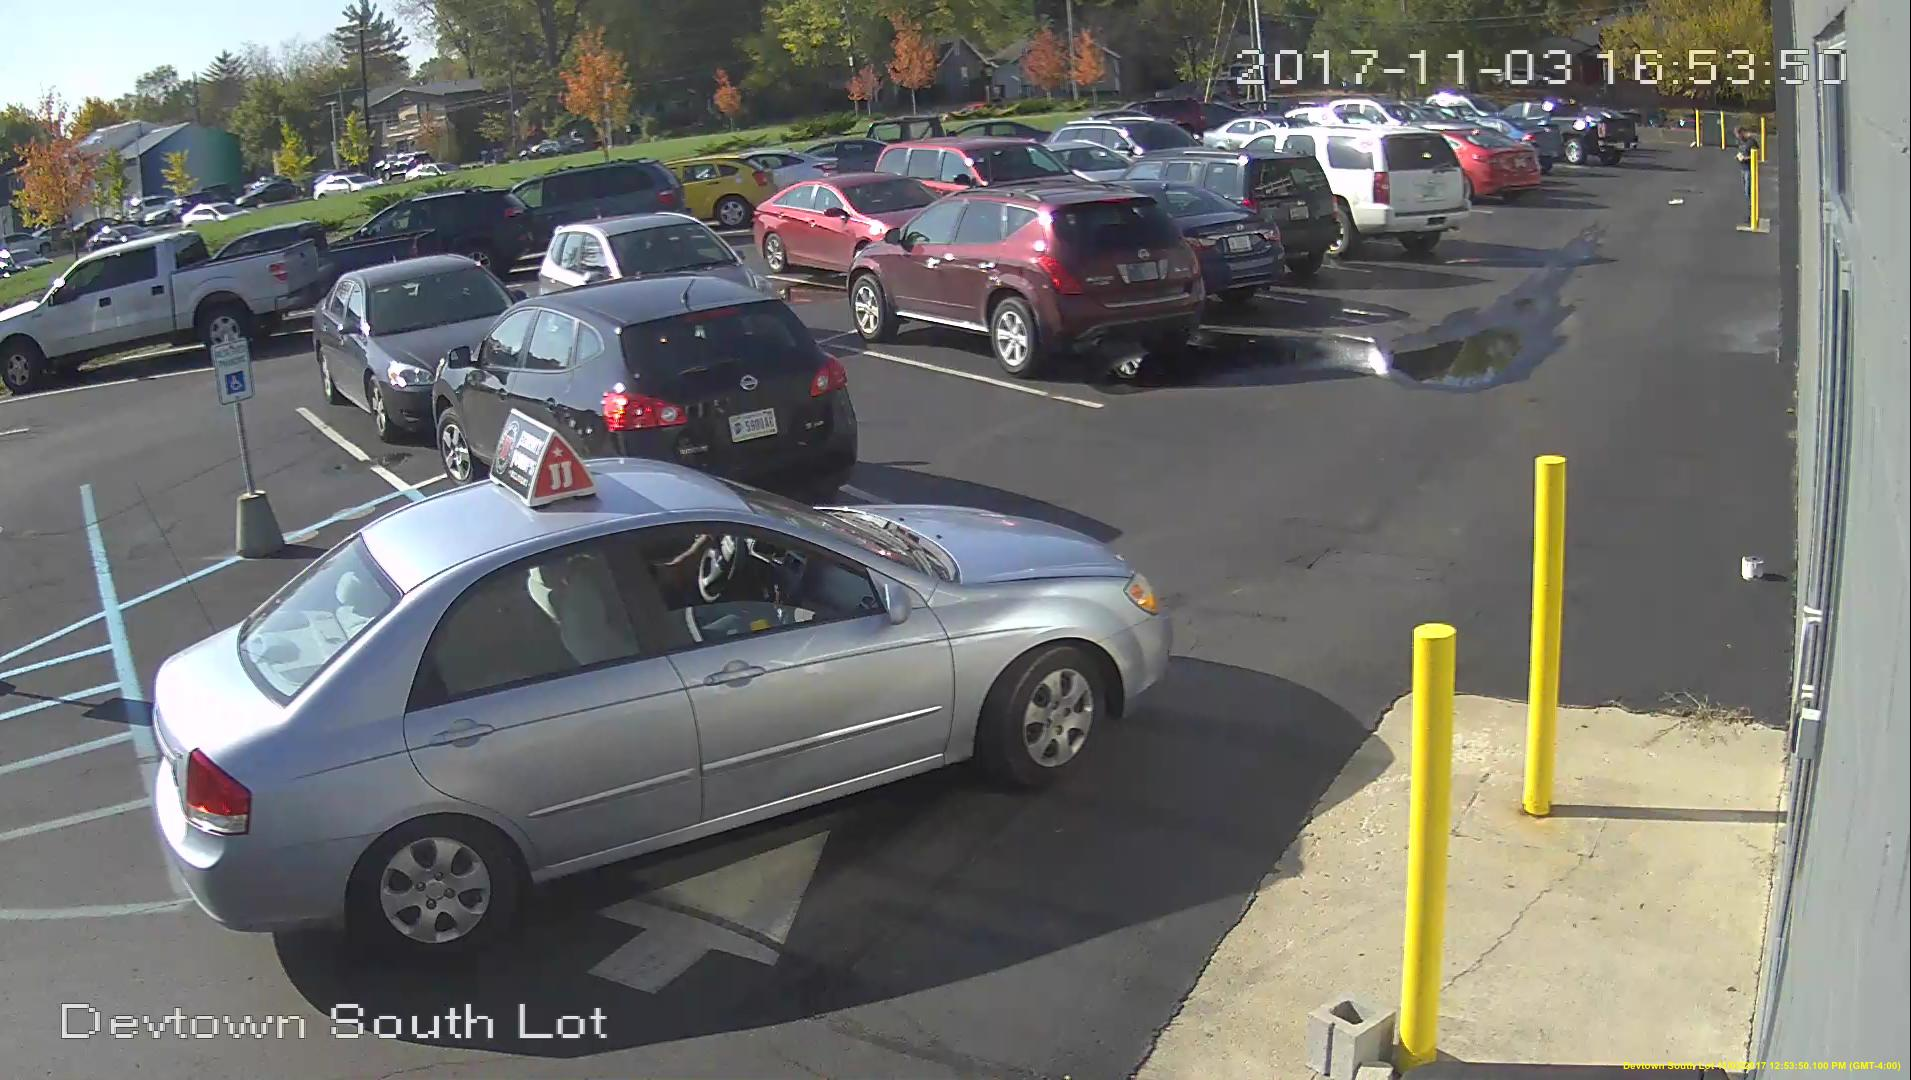jimmy_johns: (487, 405, 595, 510)
